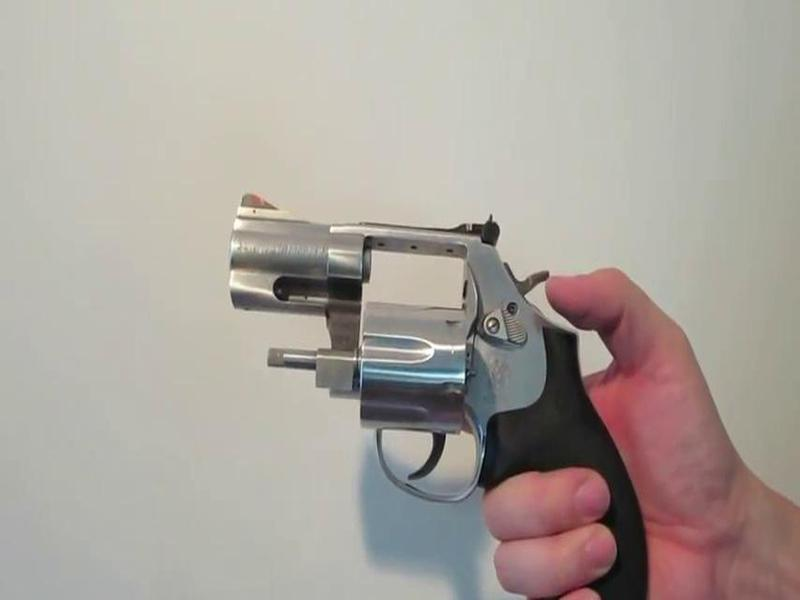Revolver: (219, 170, 688, 600)
